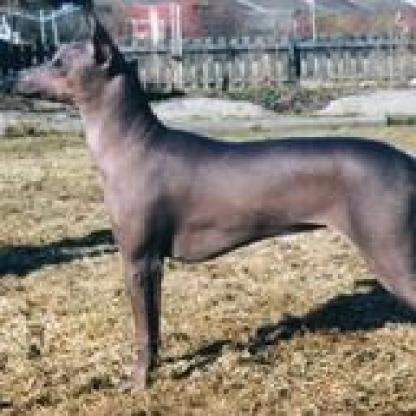Mexican_hairless: (0, 12, 411, 389)
